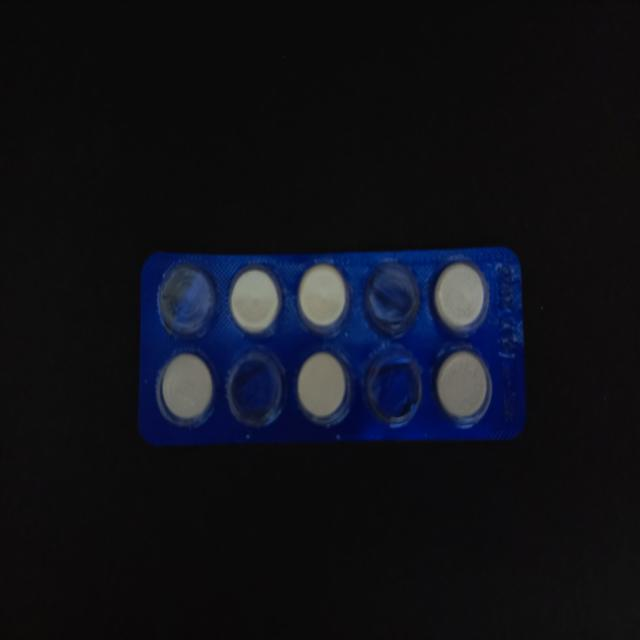defect: (222, 346, 292, 431), (155, 257, 220, 344), (361, 343, 425, 430), (360, 258, 422, 339)
